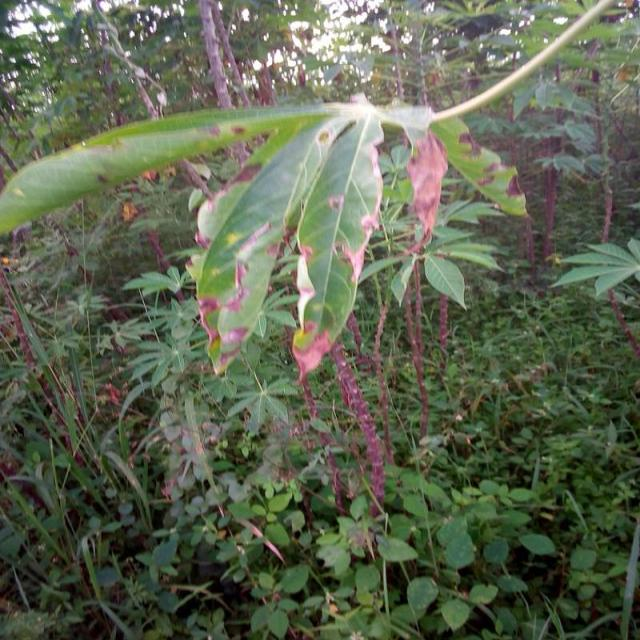cassava leaf: (190, 105, 387, 378)
